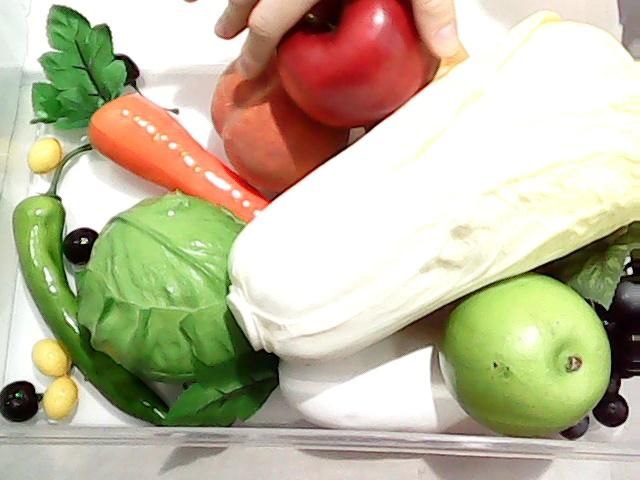apple: (438, 274, 612, 440), (272, 0, 442, 136)
cabbage: (74, 190, 278, 378)
carrot: (28, 5, 276, 226)
grape: (534, 220, 640, 444)
napa cabbage: (221, 68, 633, 352)
peach: (212, 42, 352, 196)
pepper: (8, 172, 188, 422)
potato: (363, 35, 469, 137)
radish: (172, 334, 470, 450)
